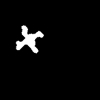single_crochet: (16, 26, 43, 52)
